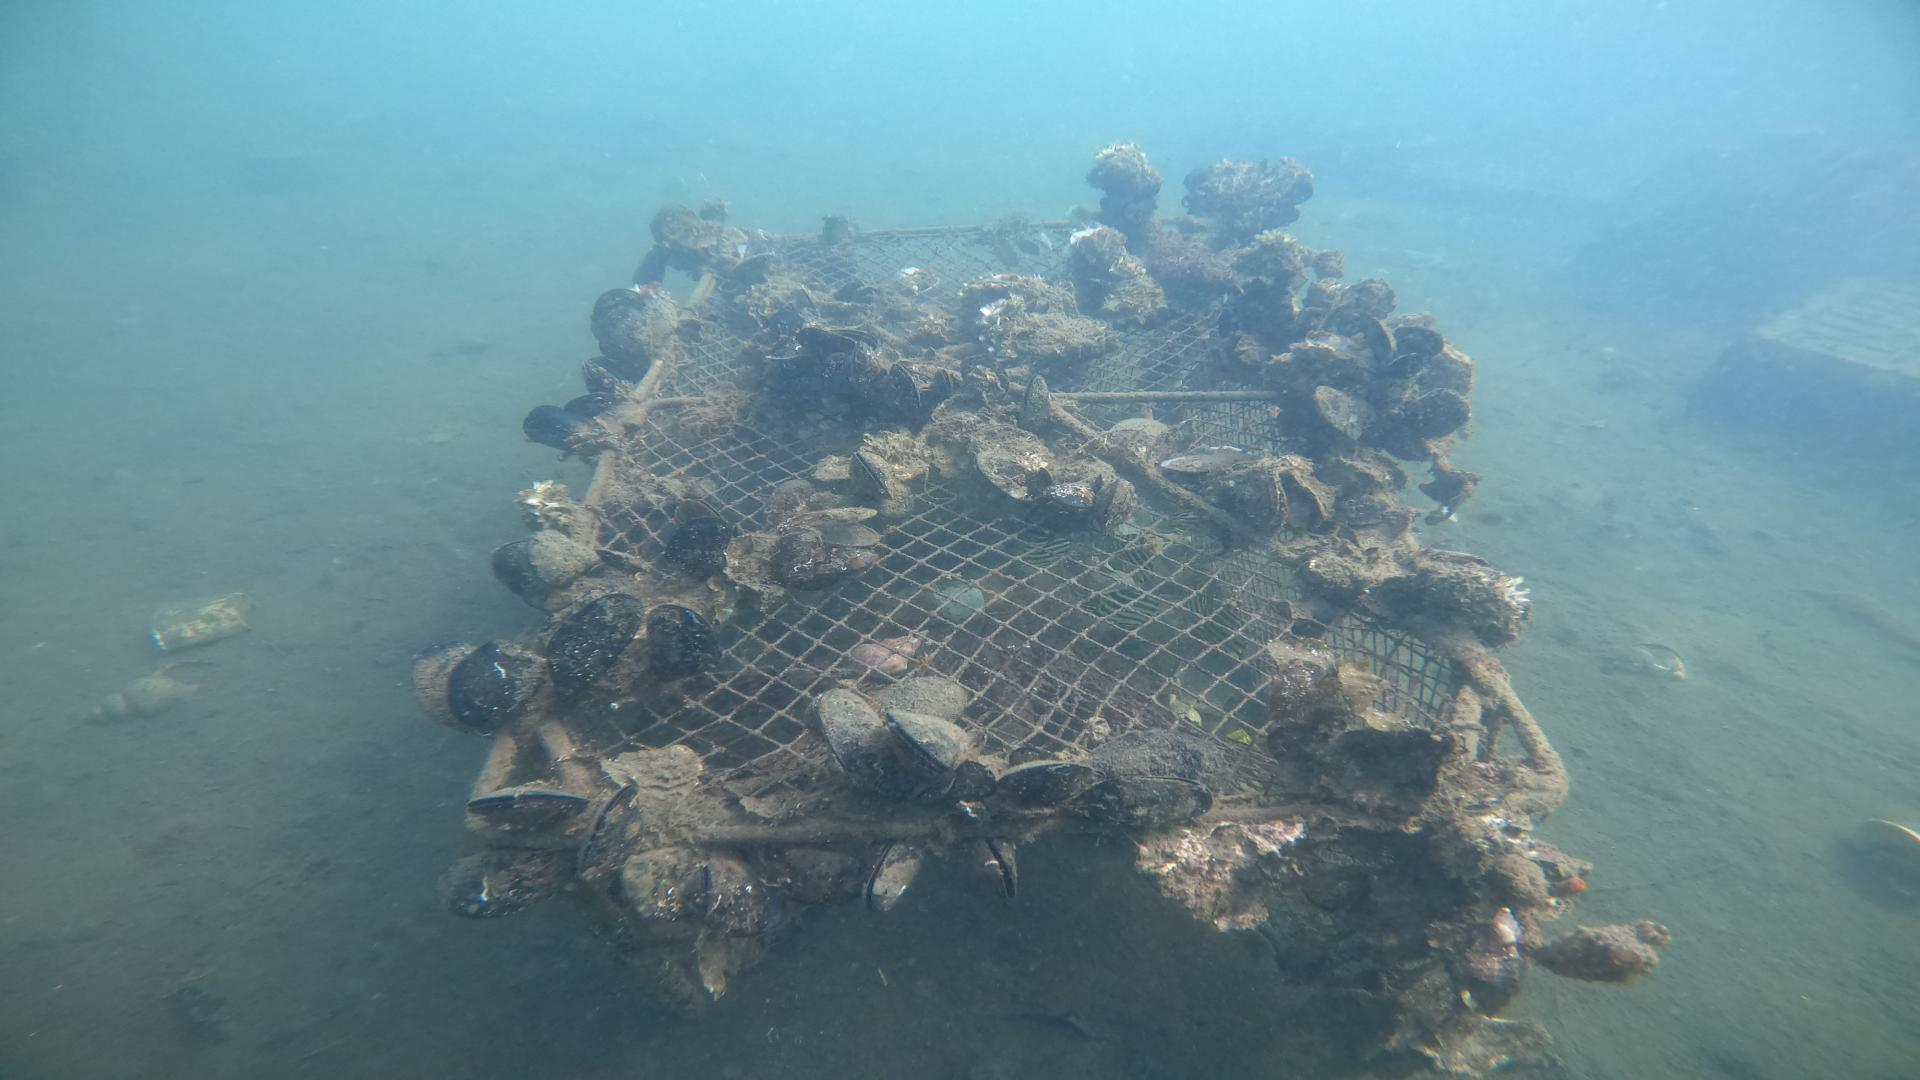rectangular fish trap: (464, 200, 1577, 869)
